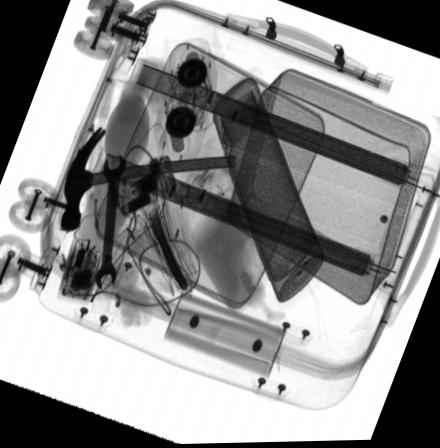Hammer: (58, 125, 236, 229)
Wrench: (94, 153, 126, 291)
